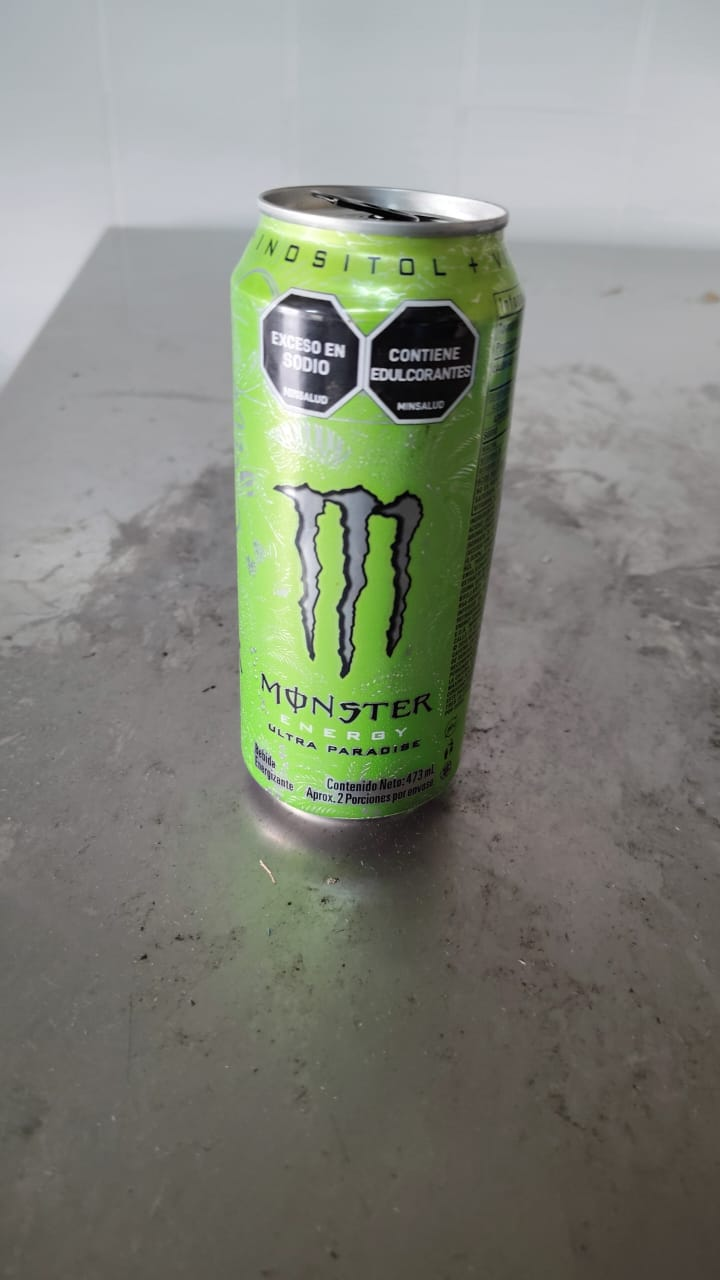Metal: (227, 184, 527, 823)
